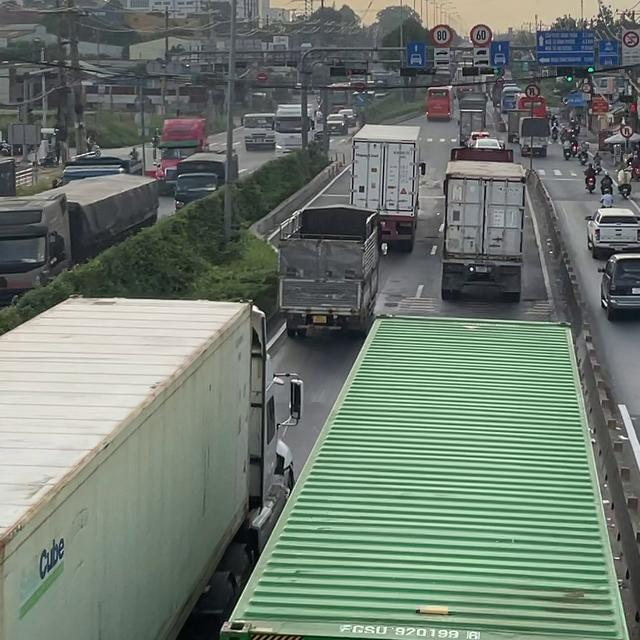bus: (514, 94, 546, 124), (500, 84, 524, 113)
car: (584, 206, 639, 258), (598, 252, 639, 319), (325, 113, 347, 134), (471, 137, 504, 149), (466, 130, 489, 147), (337, 108, 356, 126)
motorcycle: (617, 180, 631, 199), (584, 174, 596, 193)
truck: (218, 314, 636, 639), (0, 293, 303, 639), (0, 172, 159, 304), (276, 203, 380, 338), (439, 146, 527, 301), (349, 123, 426, 254), (152, 118, 208, 196), (174, 151, 239, 212), (62, 152, 142, 185), (273, 103, 314, 154), (241, 112, 275, 150), (518, 116, 549, 157), (457, 110, 487, 146), (425, 85, 453, 121), (506, 108, 531, 142), (459, 92, 488, 120)
